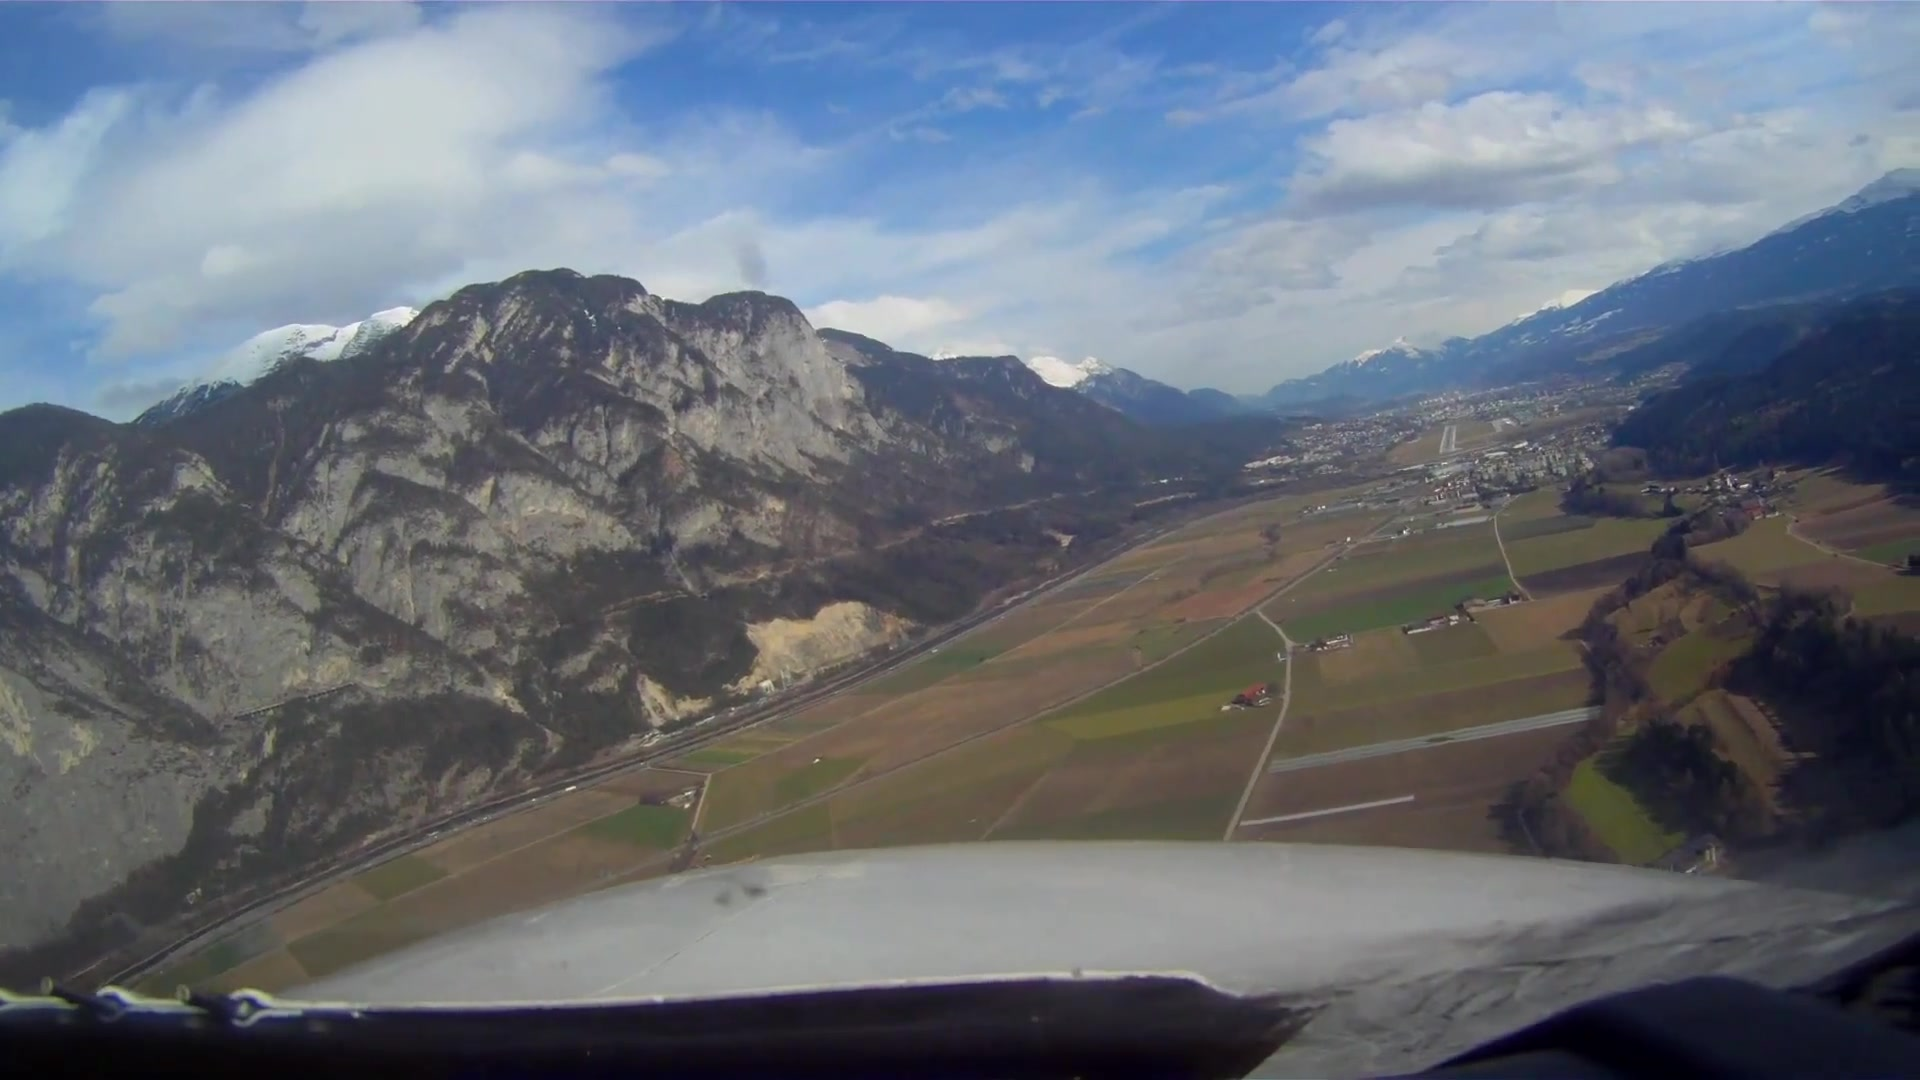runway: (1437, 425, 1458, 454)
